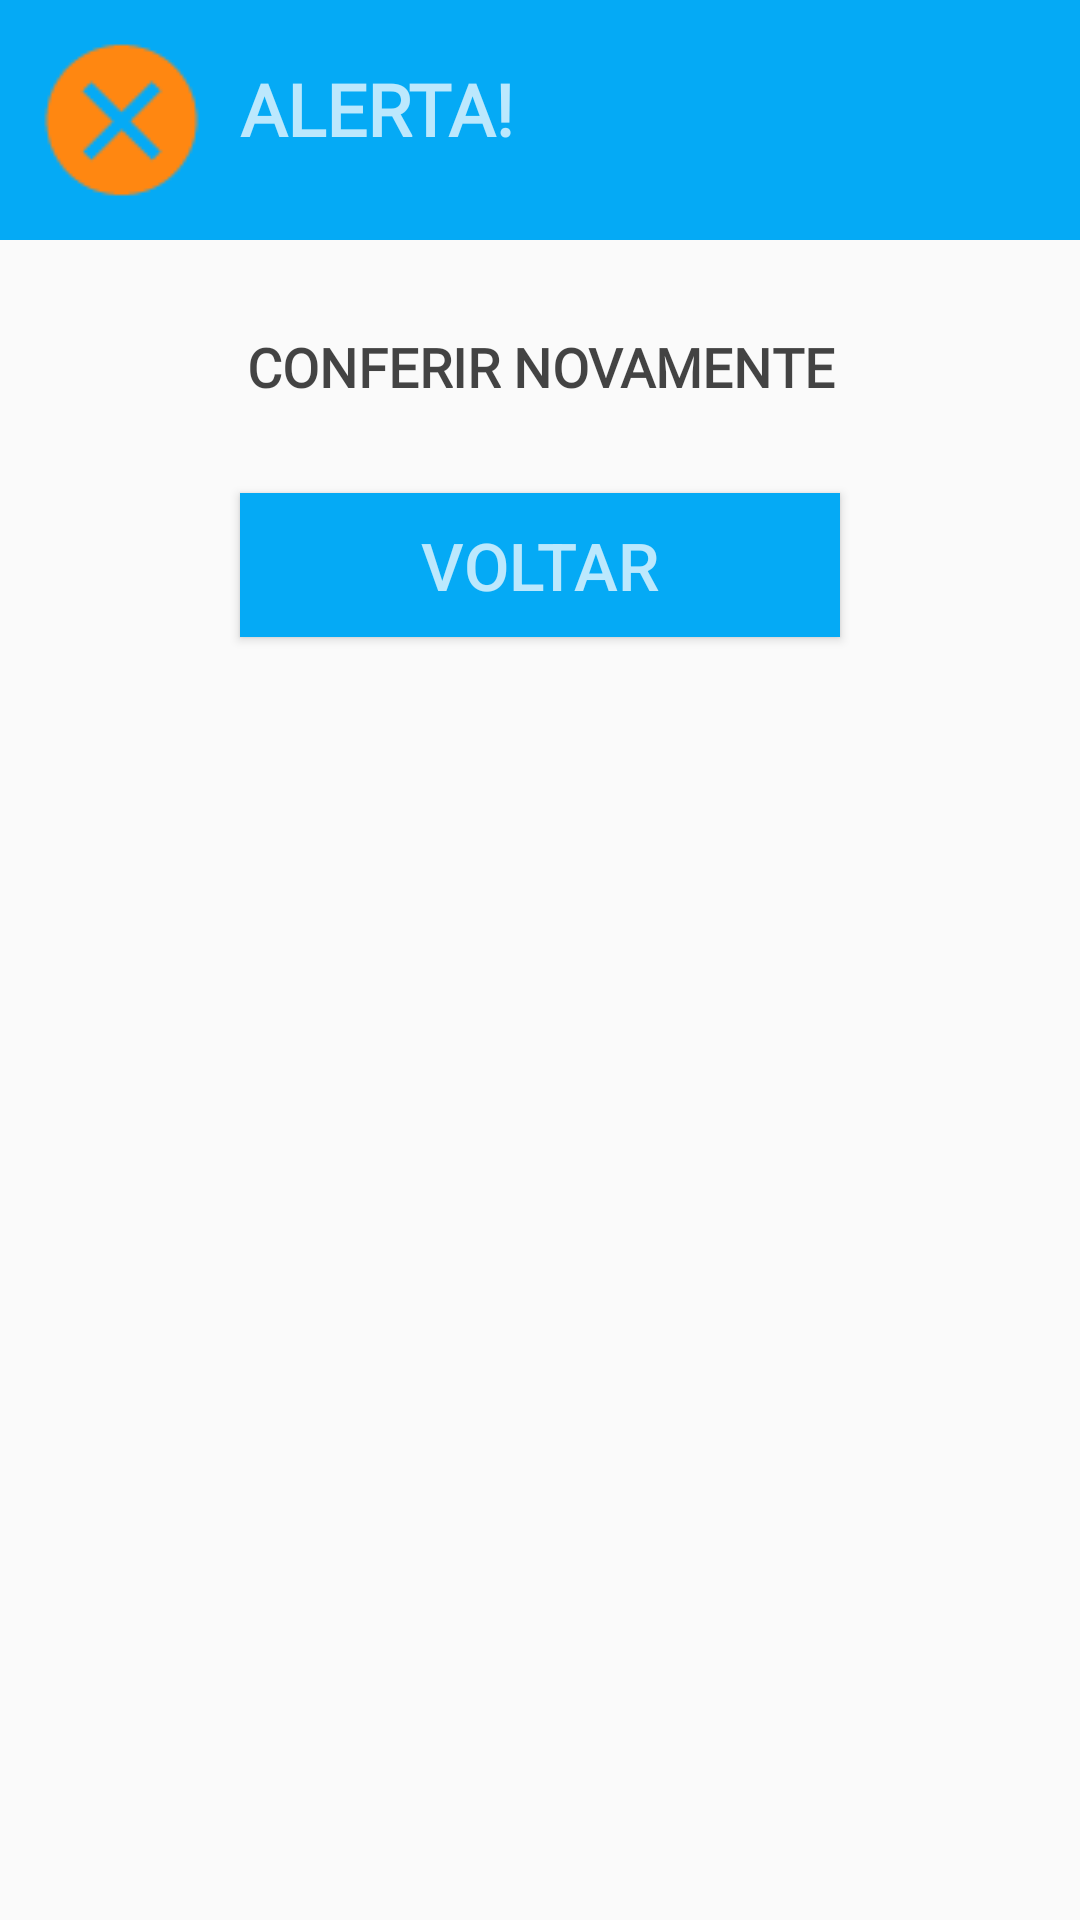

Where icons sit on this 1080*1920 app screen, as (x1, y1, x2, y2):
cancel: (44, 44, 199, 196)
